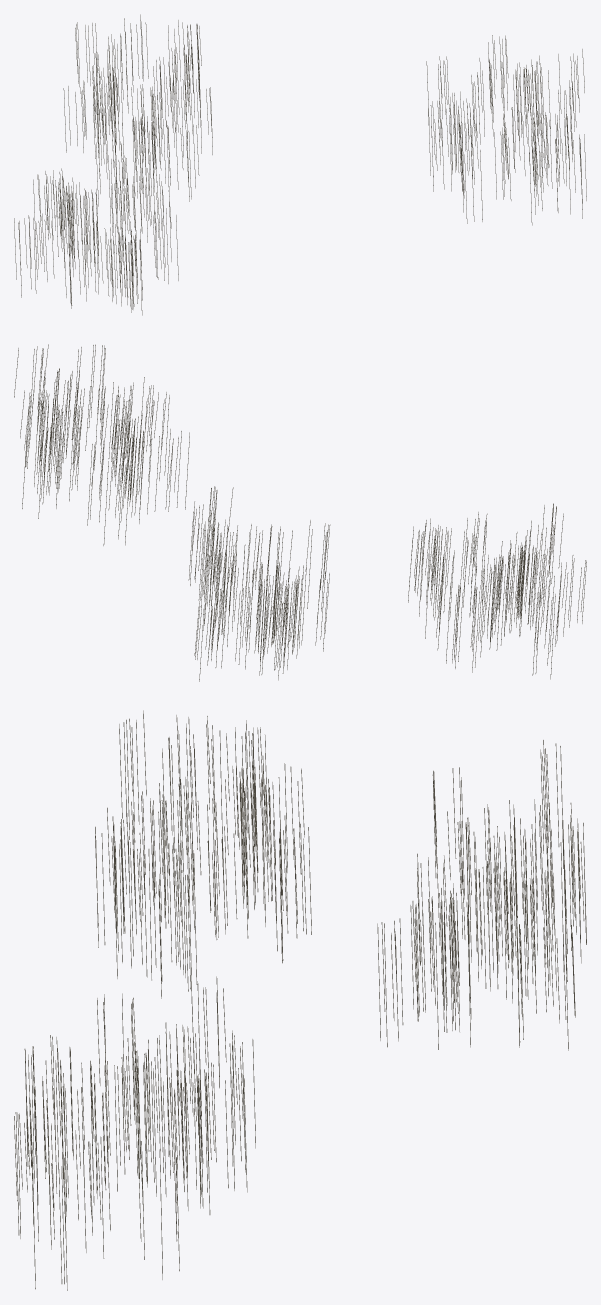
Rendered from xiyuan-vegetation-10-near.glb.
3 renders of one model, top to bottom at view 1: azimuth 30°, elevation 25°; view 2: azimuth 150°, elevation 25°; view 3: azimuth 270°, elevation 25°, orthographic. The views are drawn at different scales.
Visible parts, largest first — view 1: vegetation willow hanging twigs; view 2: vegetation willow hanging twigs; view 3: vegetation willow hanging twigs.
Boxes of the visible parts, x1=… form: vegetation willow hanging twigs: x1=14, y1=14, x2=586, y2=315; vegetation willow hanging twigs: x1=14, y1=344, x2=586, y2=681; vegetation willow hanging twigs: x1=14, y1=710, x2=586, y2=1290.
Bounding box in the file's own units: 28.38 × 8.9 × 15.93.
